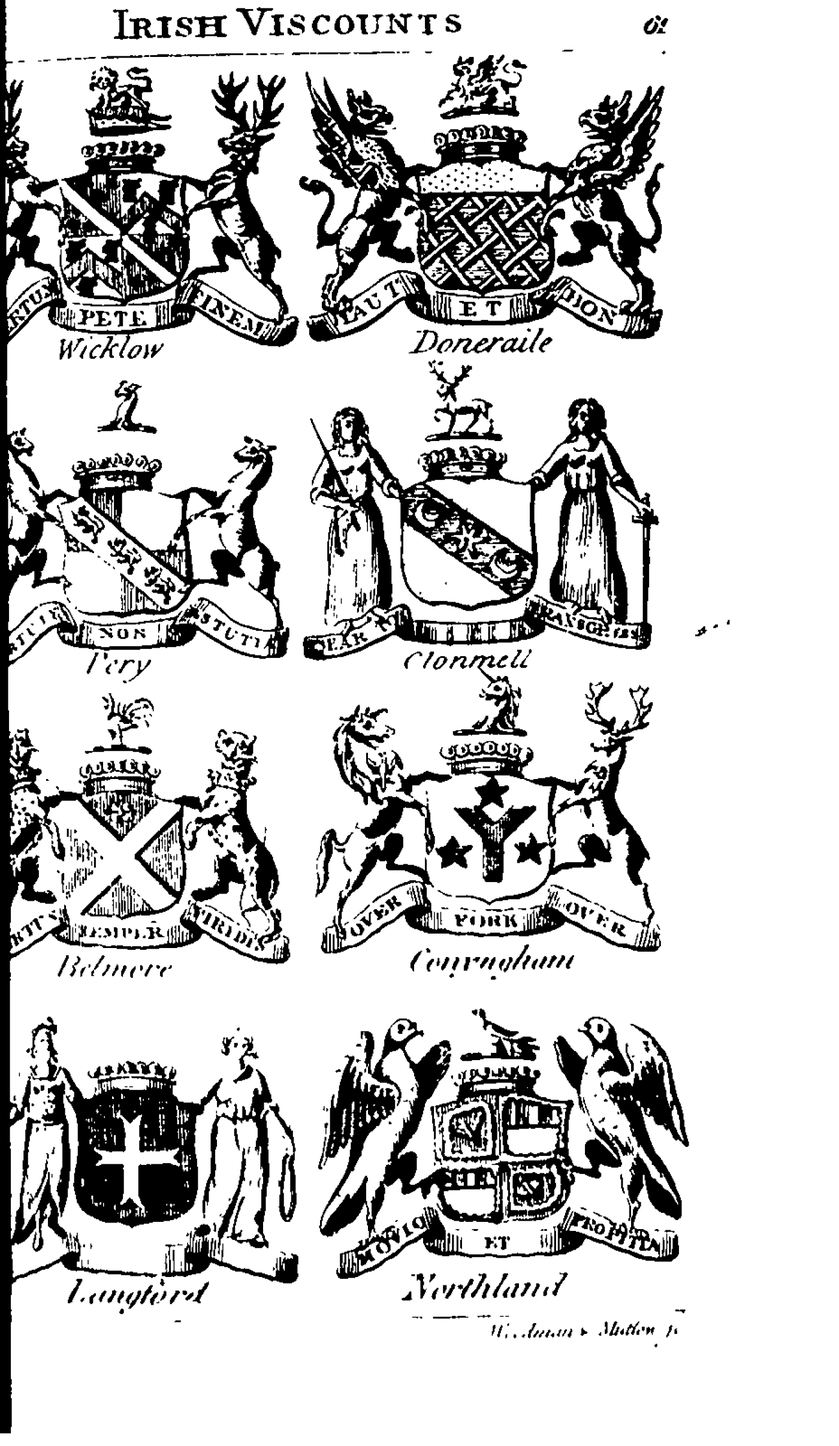coat_of_arms: (317, 998, 704, 1308), (301, 367, 674, 677), (298, 61, 669, 360), (308, 686, 687, 975), (7, 1006, 315, 1319), (2, 684, 307, 993), (3, 369, 295, 677), (3, 65, 301, 360)
